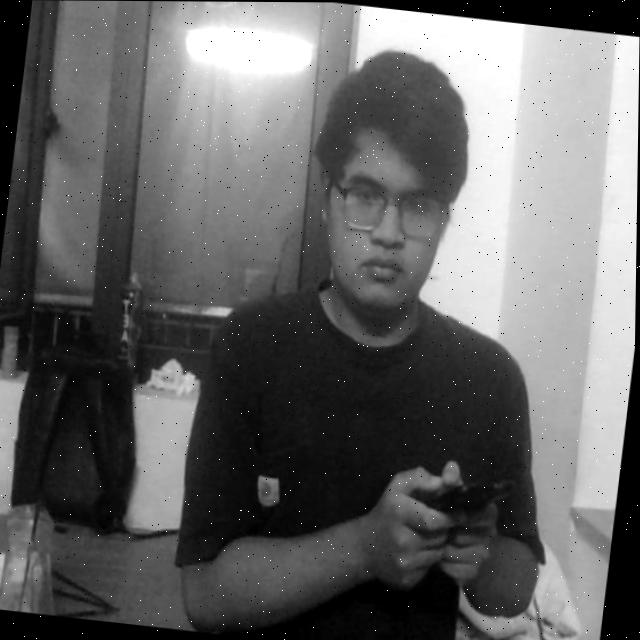phone: (397, 443, 521, 548)
